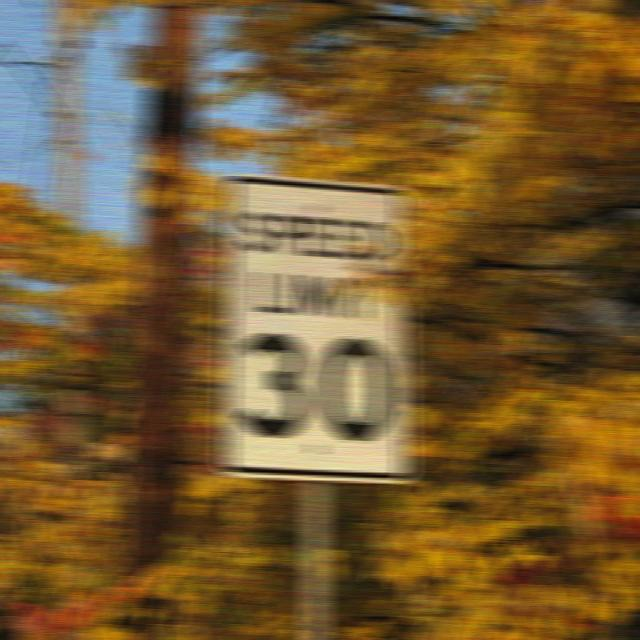speedLimit30: (224, 183, 418, 481)
